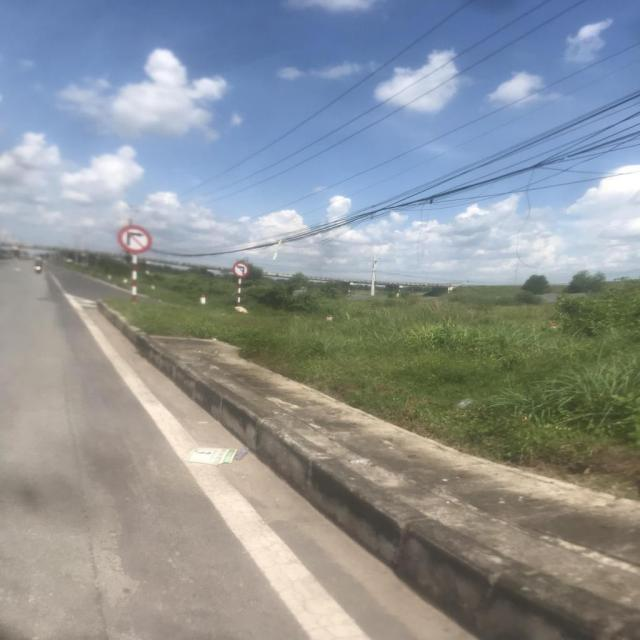cam_re_phai: (119, 226, 153, 253)
cam_re_trai: (233, 262, 250, 278)
